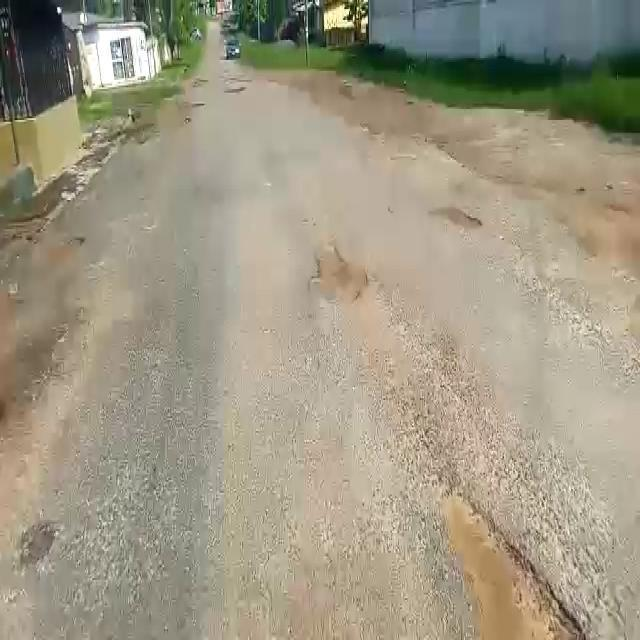pothole: (418, 480, 616, 640), (312, 248, 371, 306), (435, 204, 485, 236)
